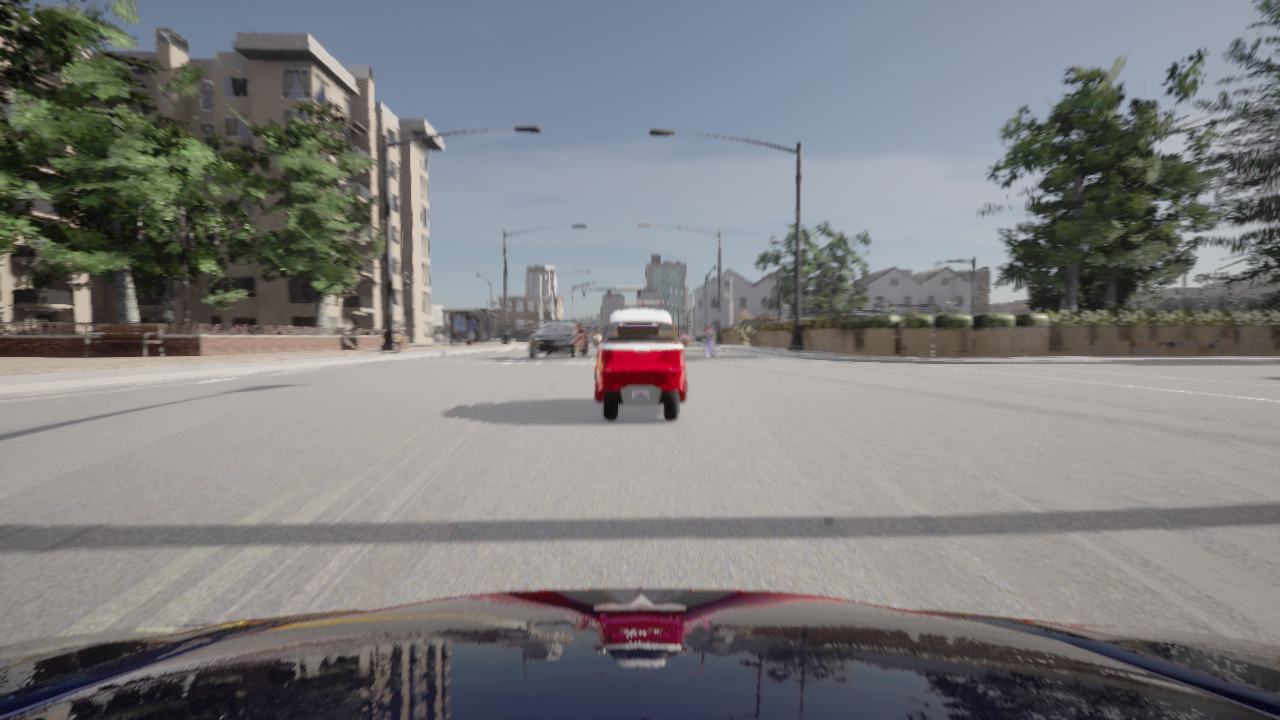cyclist: (0, 588, 1279, 719), (591, 311, 689, 420), (528, 319, 587, 358), (694, 332, 707, 342)
pedestrian: (703, 326, 714, 358), (393, 330, 401, 352)
